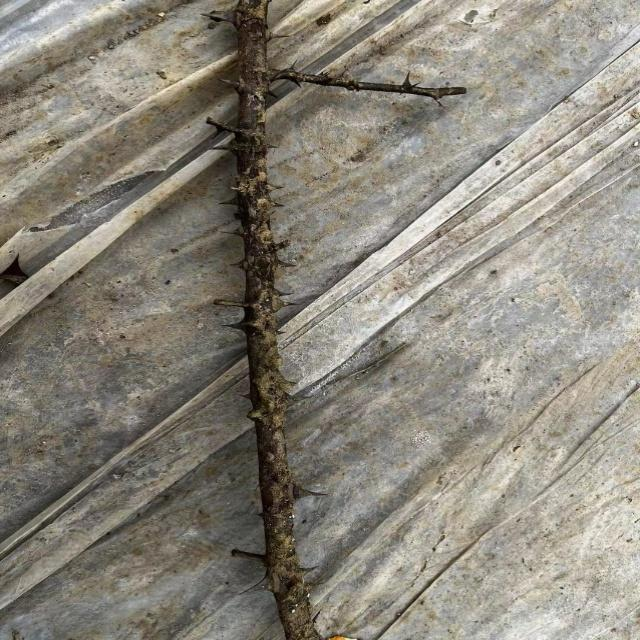branch: (229, 0, 332, 640), (265, 71, 466, 100)
